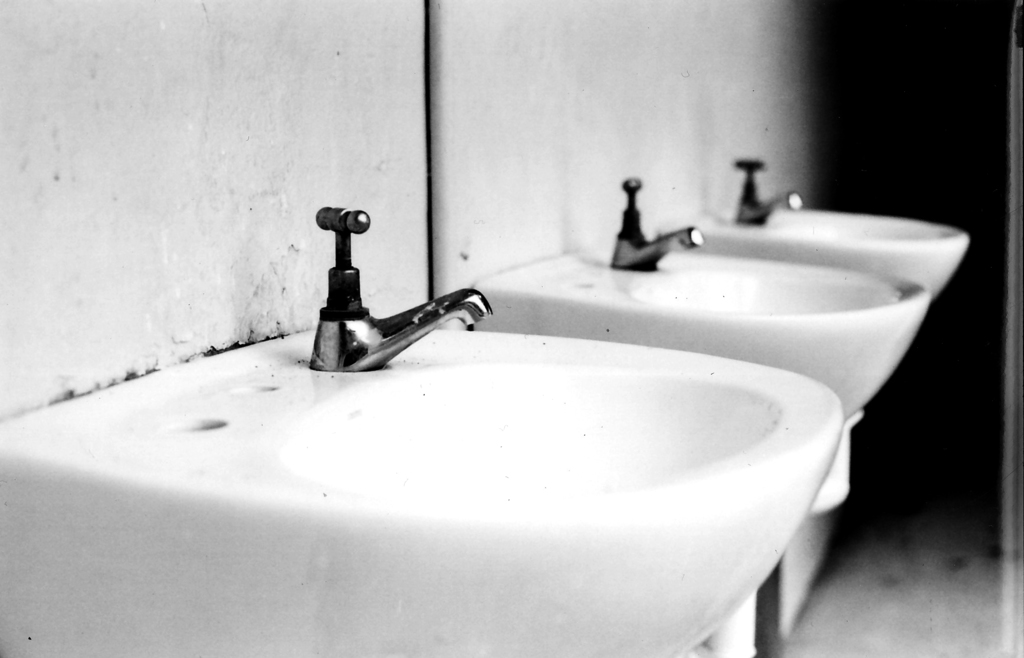tap: (304, 200, 489, 377), (607, 177, 708, 275), (728, 156, 813, 224)
